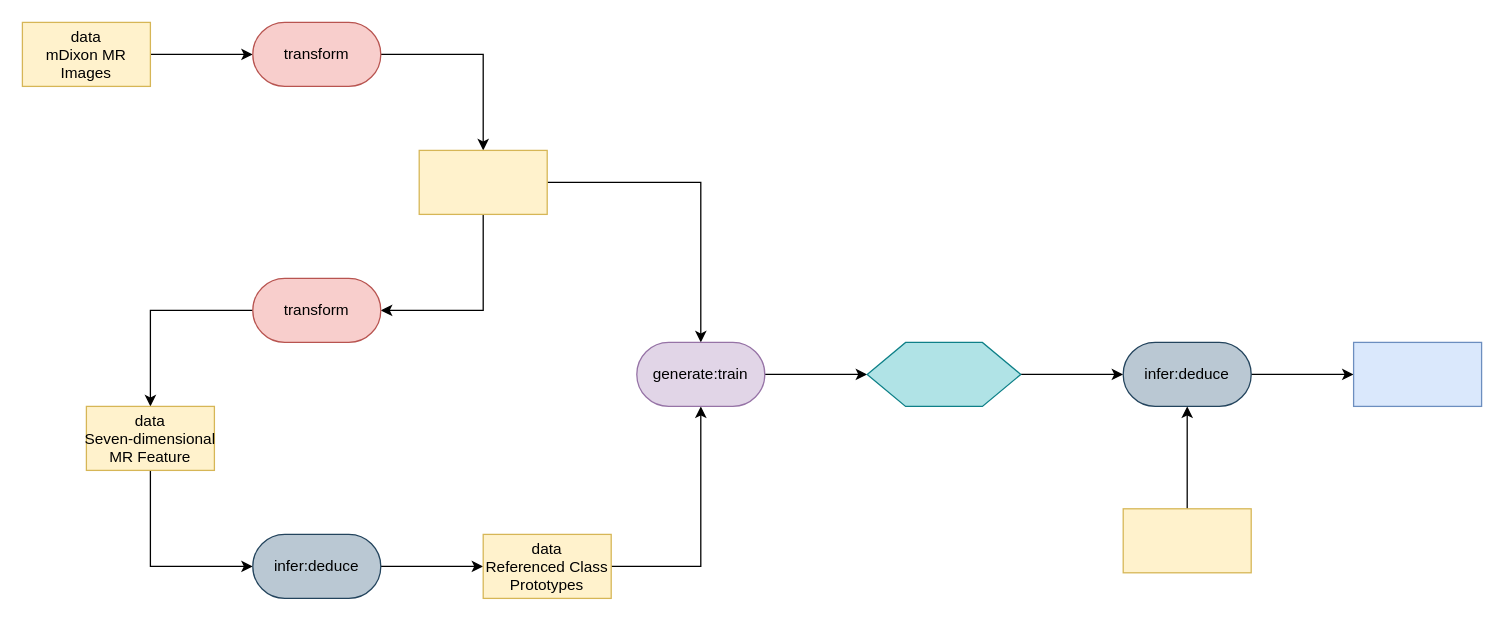
Some shapes in this 1504 by 621 pixel diagram are drawn without their labels. The centre of each missing label's shape, as x and y in pixels:
"data Extracted Features" goes at point 482,181.
"data Patient MR Feature Data" goes at point 1186,540.
"model:hybrid TDOs" goes at point 943,373.
"symbol Segmented MR Images" goes at point 1417,373.
